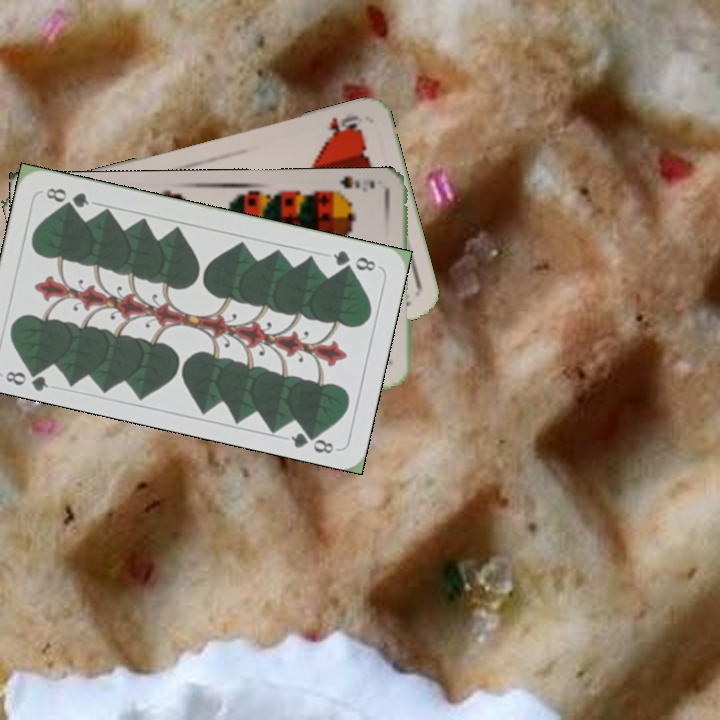G8: (1, 362, 51, 393), (328, 246, 379, 274)
HO: (322, 110, 364, 142)
S9: (325, 175, 378, 202)
